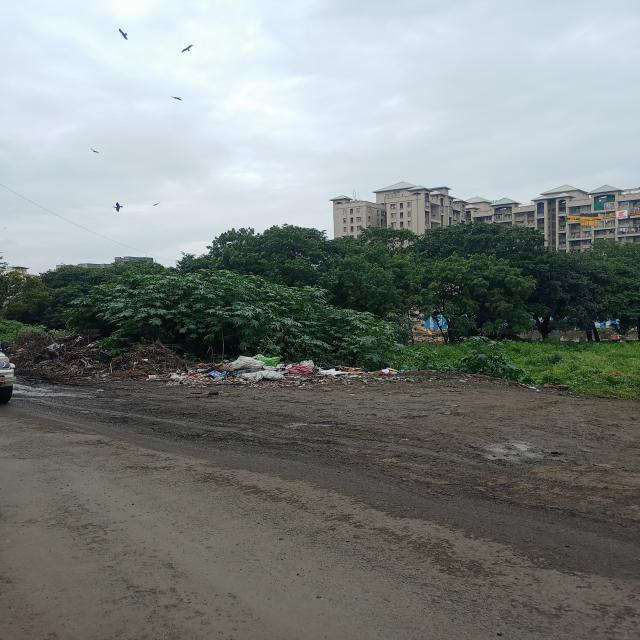garbage: (27, 336, 176, 382), (182, 352, 372, 388)
